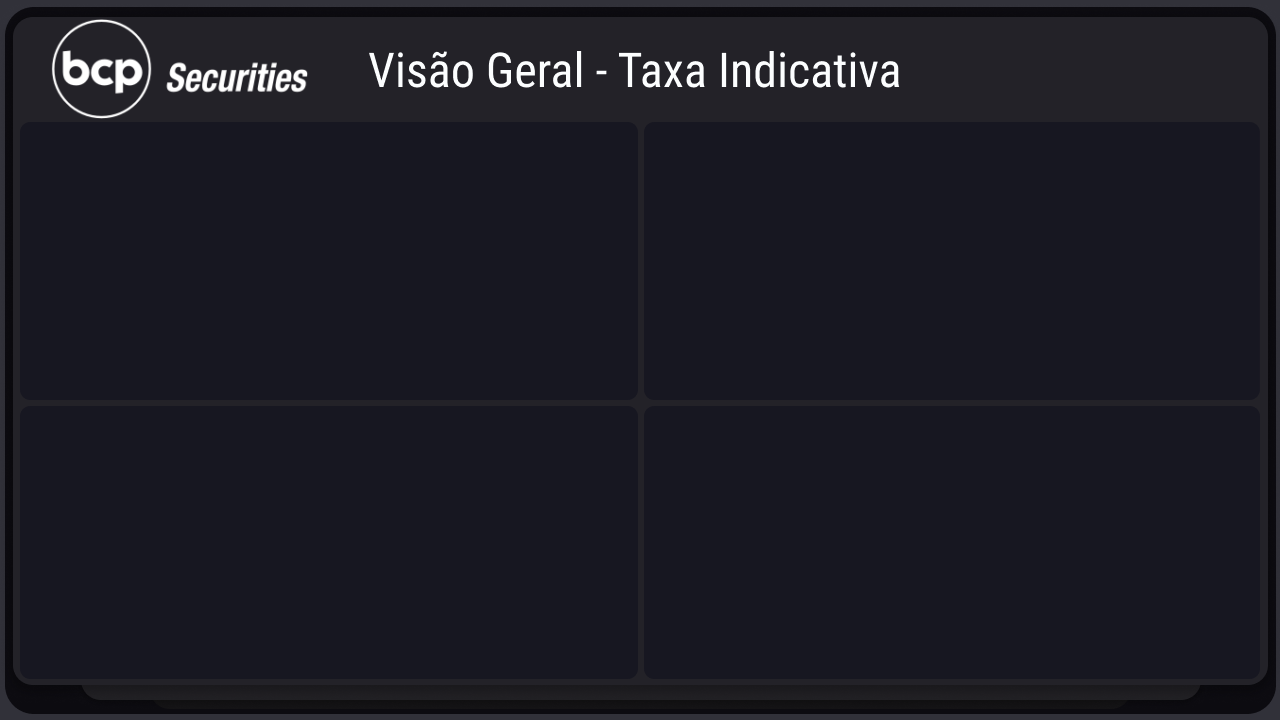

What the dashboard file says about the page in this screenshot:
{"tool":"powerbi","page":{"name":"Visão Geral Taxa Indicativa","canvas":[1280,720],"ordinal":0},"visuals":[{"type":"lineChart","fields":{"Category":["DataSetAtualizado.Repac./  Venc..Variation.Hierarquia de datas.Ano","DataSetAtualizado.Repac./  Venc..Variation.Hierarquia de datas.Trimestre","DataSetAtualizado.Repac./  Venc..Variation.Hierarquia de datas.Mês","DataSetAtualizado.Repac./  Venc..Variation.Hierarquia de datas.Dia"],"Y":["DataSetAtualizado.Taxa DI + Média"]},"box":[20,408,620,274],"z":0},{"type":"lineChart","title":"Taxa Indicativa Geral - Média por Ano","fields":{"Category":["DataSetAtualizado.Repac./  Venc..Variation.Hierarquia de datas.Ano","DataSetAtualizado.Repac./  Venc..Variation.Hierarquia de datas.Trimestre","DataSetAtualizado.Repac./  Venc..Variation.Hierarquia de datas.Mês","DataSetAtualizado.Repac./  Venc..Variation.Hierarquia de datas.Dia"],"Y":["DataSetAtualizado.Taxa Indicativa Média"]},"box":[20,122.3,620,280.8],"z":1000},{"type":"lineChart","fields":{"Category":["DataSetAtualizado.Repac./  Venc..Variation.Hierarquia de datas.Ano","DataSetAtualizado.Repac./  Venc..Variation.Hierarquia de datas.Trimestre","DataSetAtualizado.Repac./  Venc..Variation.Hierarquia de datas.Mês","DataSetAtualizado.Repac./  Venc..Variation.Hierarquia de datas.Dia"],"Y":["DataSetAtualizado.Taxa IPCA + Média"]},"box":[645,122,611,281],"z":2000},{"type":"lineChart","fields":{"Category":["DataSetAtualizado.Repac./  Venc..Variation.Hierarquia de datas.Ano","DataSetAtualizado.Repac./  Venc..Variation.Hierarquia de datas.Trimestre","DataSetAtualizado.Repac./  Venc..Variation.Hierarquia de datas.Mês","DataSetAtualizado.Repac./  Venc..Variation.Hierarquia de datas.Dia"],"Y":["DataSetAtualizado.Taxa % do DI Média"]},"box":[645.4,408.5,610.8,273.1],"z":3000}]}

Visuals, with their boxes in screenshot pixels (x1, y1, x2, y2), scaled from the page's 1280x720 canvas onto the 1280x720 screenshot:
lineChart - DataSetAtualizado.Repac./  Venc..Variation.Hierarquia de datas.Ano x DataSetAtualizado.Repac./  Venc..Variation.Hierarquia de datas.Trimestre: [20, 408, 640, 682]
"Taxa Indicativa Geral - Média por Ano" lineChart: [20, 122, 640, 403]
lineChart - DataSetAtualizado.Repac./  Venc..Variation.Hierarquia de datas.Ano x DataSetAtualizado.Repac./  Venc..Variation.Hierarquia de datas.Trimestre: [645, 122, 1256, 403]
lineChart - DataSetAtualizado.Repac./  Venc..Variation.Hierarquia de datas.Ano x DataSetAtualizado.Repac./  Venc..Variation.Hierarquia de datas.Trimestre: [645, 408, 1256, 682]
